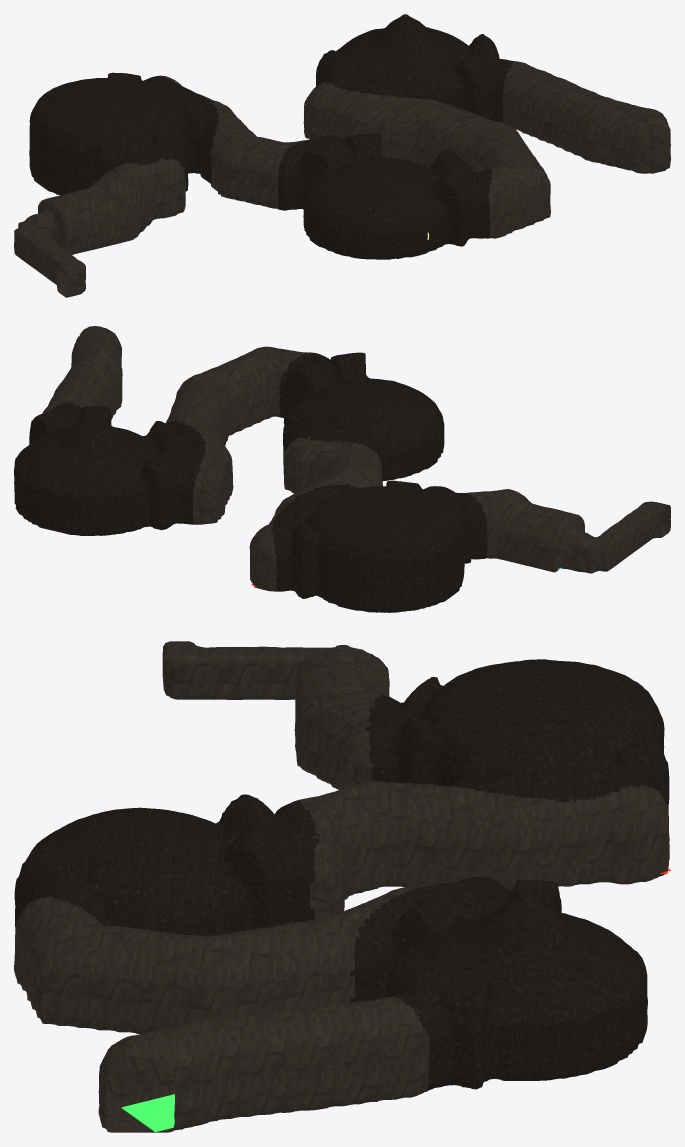
File: first-fire-cinder-court.glb
3 views of the same model, one above another, from view 1: azimuth 30°, elevation 25°; view 2: azimuth 150°, elevation 25°; view 3: azimuth 270°, elevation 25° (orthographic). The views are drawn at different scales.
Parts seen in each view (by area): view 1: FF_Rock_Lane, FF_Rock_EK, FF_Rock_DJ, FF_Rock_FL; view 2: FF_Rock_Lane, FF_Rock_DJ, FF_Rock_FL, FF_Rock_EK; view 3: FF_Rock_Lane, FF_Rock_FL, FF_Rock_DJ, FF_Rock_EK, FF_Growth_Route_earth-growth-path_04.
Part boxes in pixels (box(x1,y1,x2,y2)): FF_Rock_Lane: box(14, 61, 670, 297); FF_Rock_EK: box(278, 133, 493, 259); FF_Rock_DJ: box(29, 72, 219, 195); FF_Rock_FL: box(316, 14, 514, 122); FF_Rock_Lane: box(42, 326, 670, 591); FF_Rock_DJ: box(271, 480, 487, 612); FF_Rock_FL: box(14, 402, 205, 535); FF_Rock_EK: box(279, 352, 444, 480); FF_Rock_Lane: box(14, 641, 669, 1132); FF_Rock_FL: box(350, 876, 647, 1090); FF_Rock_DJ: box(365, 659, 669, 821); FF_Rock_EK: box(14, 794, 319, 935); FF_Growth_Route_earth-growth-path_04: box(121, 1094, 174, 1132).
Bounding box in the file's own units: 64.16 × 9.32 × 39.42.
Materials: 18 (7 with a texture image).
